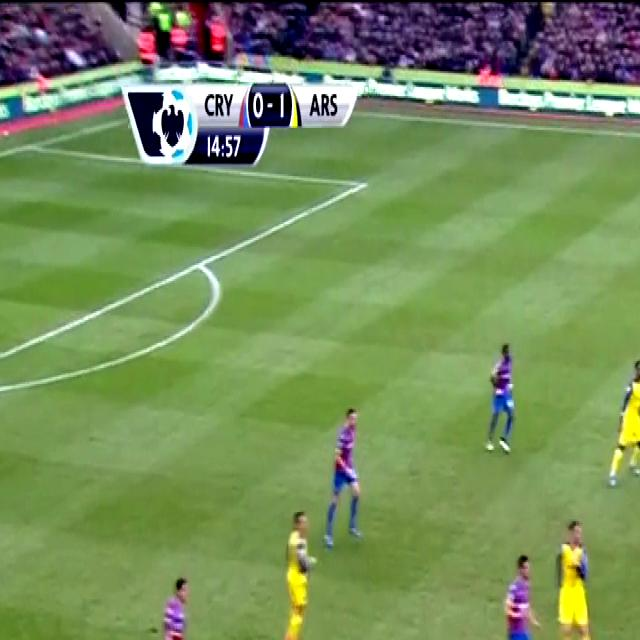soccer-player: (311, 395, 374, 548), (267, 503, 327, 640), (549, 514, 607, 640), (471, 338, 526, 466), (594, 354, 640, 494), (489, 553, 561, 640), (142, 572, 213, 640)
